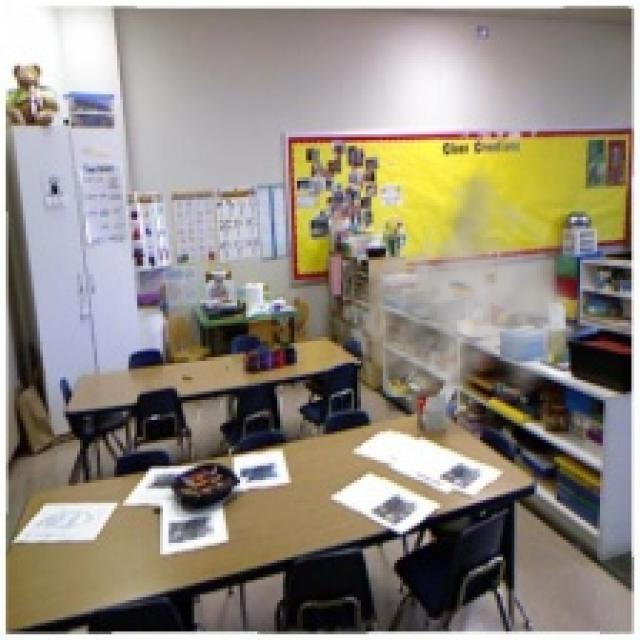smoke: (337, 157, 586, 420)
